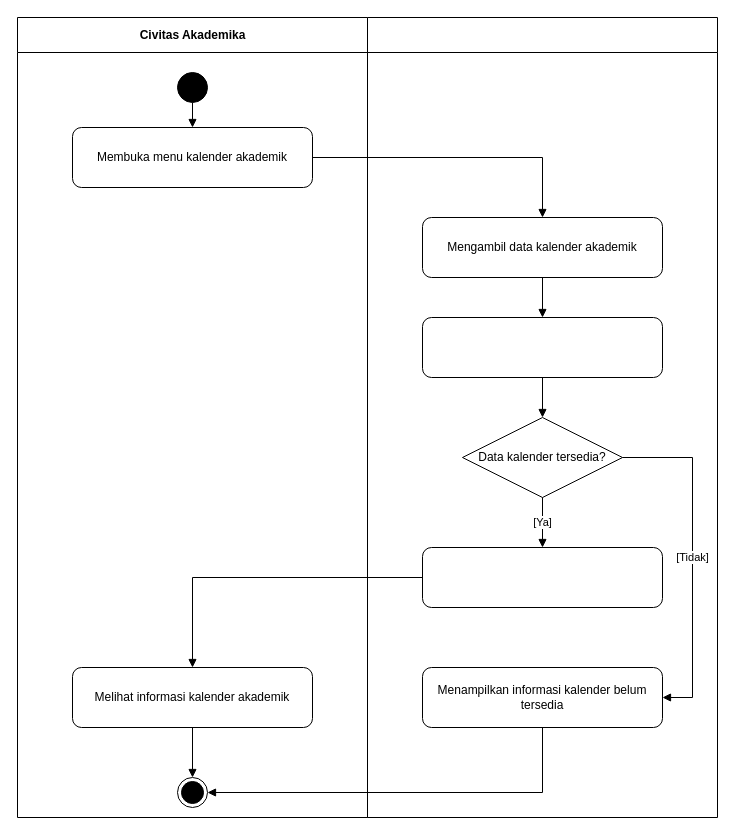
Some shapes in this 735 by 835 pixel diagram are drawn without their labels. The box of each missing label's shape, as (x1, y1, x2, y2) in pixels:
Memeriksa ketersediaan kalender akademik: (422, 316, 662, 378)
Menampilkan kalender akademik: (422, 546, 662, 608)
Sistem: (366, 16, 718, 818)
